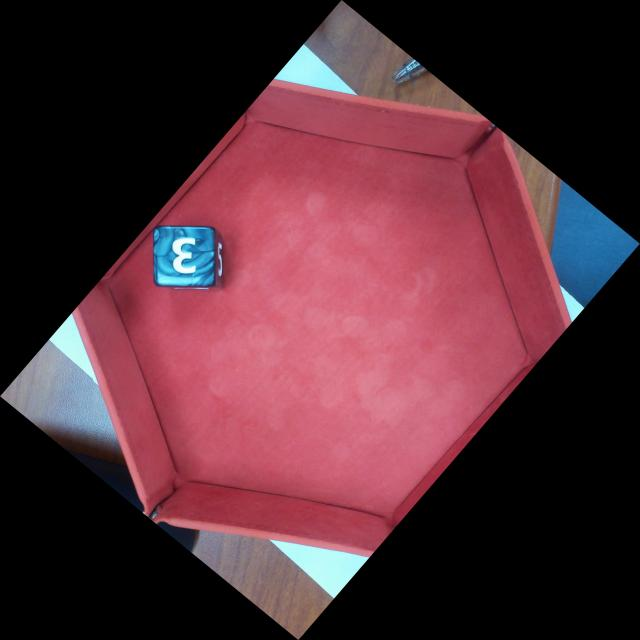dice: (155, 228, 218, 287)
